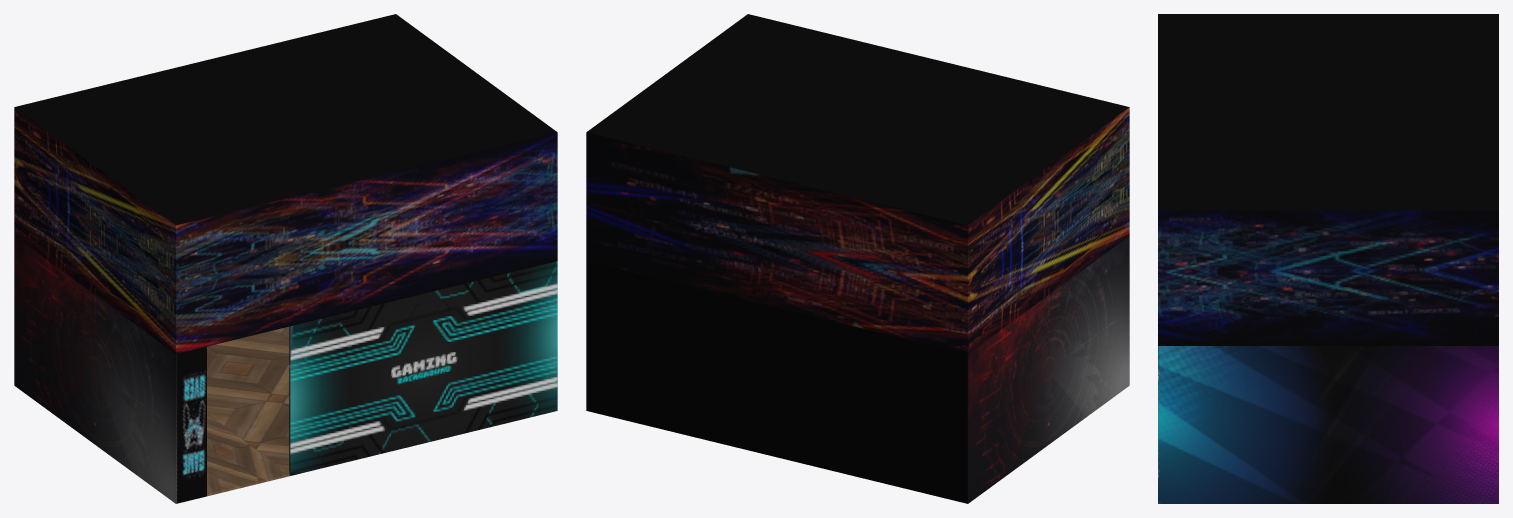
File: sofa room.fbx
3 renders of one model, left to right at view 1: azimuth 30°, elevation 25°; view 2: azimuth 150°, elevation 25°; view 3: azimuth 270°, elevation 25°, orthographic. The views are drawn at different scales.
Visible parts, largest first — view 1: sofa_room; view 2: sofa_room; view 3: sofa_room.
Part boxes in pixels (left/top/right/bottom): sofa_room: left=14, top=14, right=557, bottom=503; sofa_room: left=586, top=14, right=1129, bottom=503; sofa_room: left=1158, top=14, right=1498, bottom=503.
Bounding box in the file's own units: 1781 × 1243 × 1307.
1 material, 1 textured.
